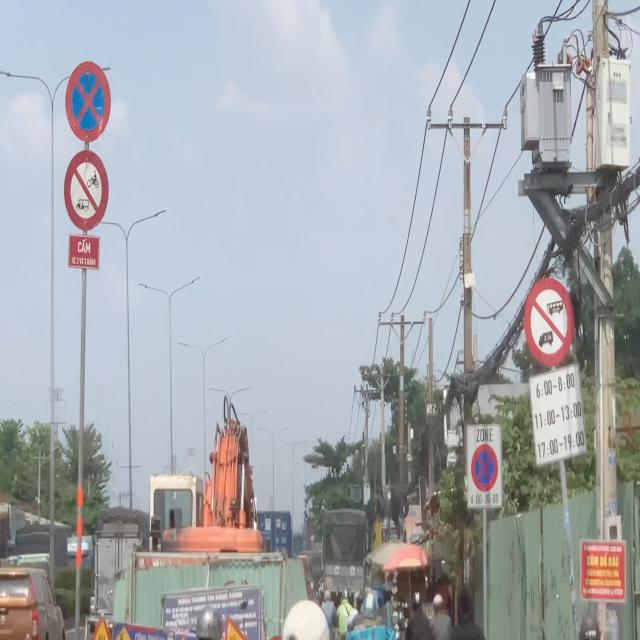Cam con lai: (523, 276, 576, 369), (62, 149, 110, 234)
Cam dung va do: (65, 61, 111, 143), (471, 444, 498, 492)
